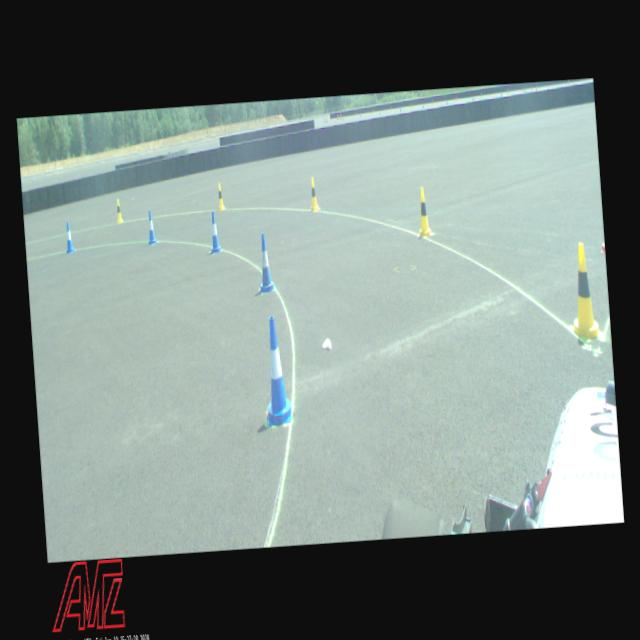blue_cone: (260, 314, 292, 424), (256, 232, 275, 293), (208, 210, 221, 252), (146, 209, 156, 245), (64, 221, 74, 253)
yellow_cone: (566, 242, 600, 340), (415, 187, 431, 237), (308, 176, 319, 211), (217, 182, 224, 210), (116, 199, 122, 223)
